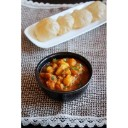poori: (34, 17, 59, 41), (70, 7, 93, 27), (87, 2, 107, 19), (56, 15, 73, 33)
